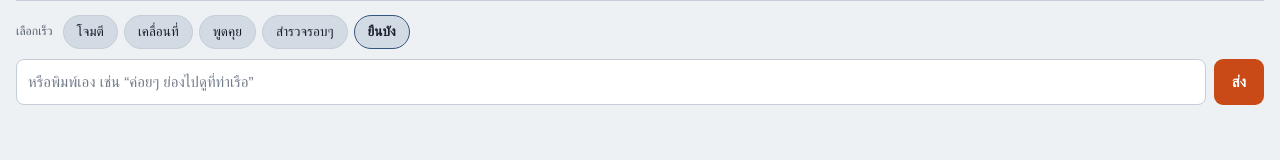
ActionInput › class ability button › says so when there is nobody to target
What coordinates should you click on to do the following:
click the button "ยืนบัง"
I would click on:
 (382, 32)
Its box is [354,15,410,49].
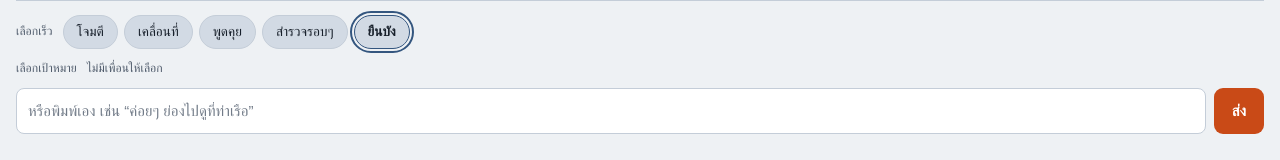
Now the text "ไม่มีเพื่อนให้เลือก" is shown, box [87,59,163,78]
